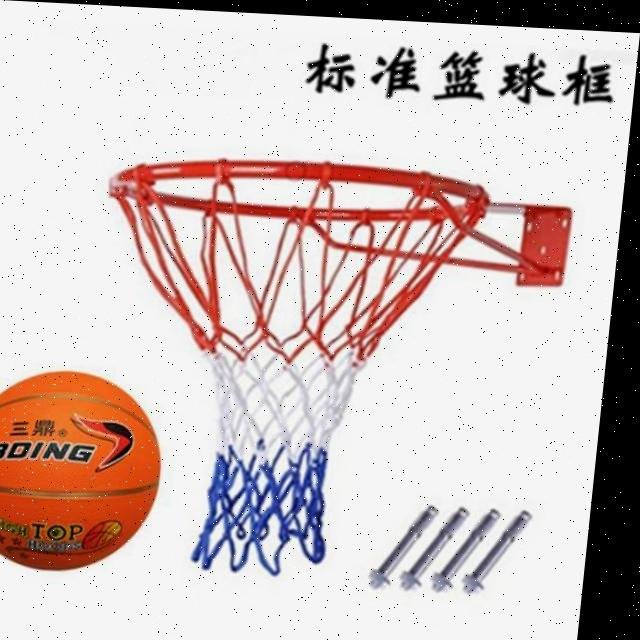basketball: (0, 363, 172, 576)
hoop: (73, 150, 486, 574)
